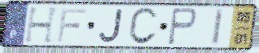C: (127, 6, 160, 47)
F: (56, 7, 88, 44)
H: (23, 5, 62, 45)
I: (210, 7, 226, 47)
J: (98, 8, 125, 44)
P: (166, 6, 199, 47)
